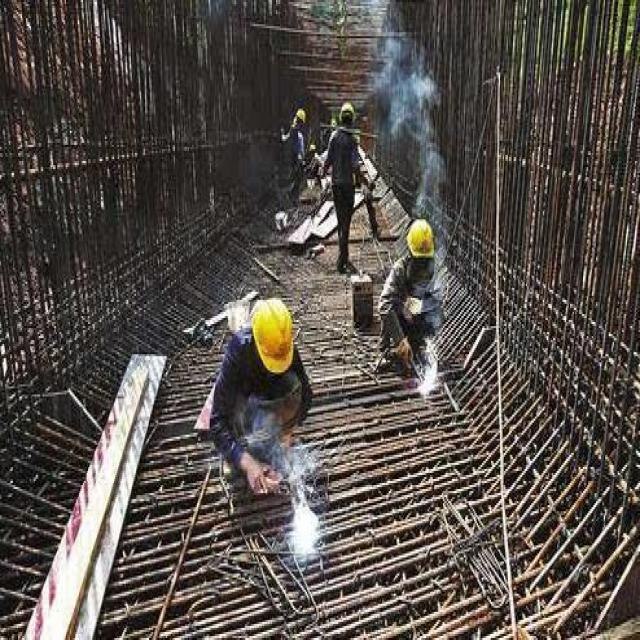gloves: (394, 336, 413, 364)
hard-hat: (251, 298, 293, 374), (407, 218, 435, 258), (339, 102, 355, 122)
person: (208, 297, 315, 498), (377, 218, 446, 385), (319, 101, 377, 275)
